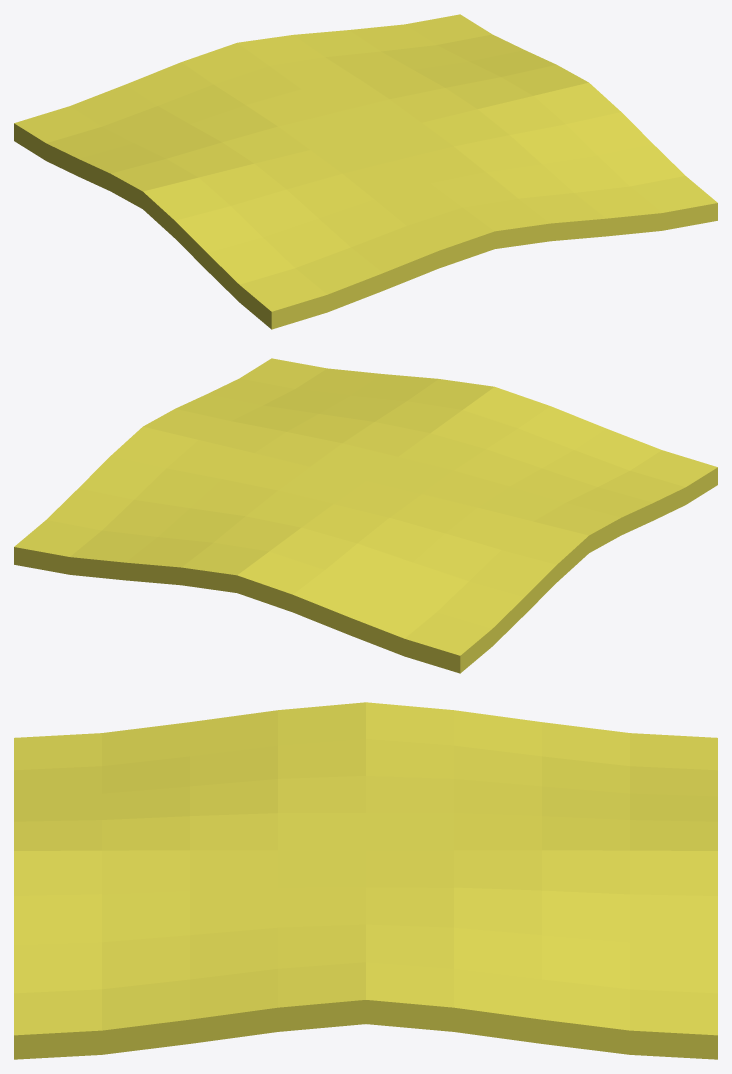
File: queso.glb
3 views of the same model, one above another, from view 1: azimuth 30°, elevation 25°; view 2: azimuth 150°, elevation 25°; view 3: azimuth 270°, elevation 25° (orthographic). The views are drawn at different scales.
Visible parts, largest first — view 1: Plane; view 2: Plane; view 3: Plane.
Part boxes in pixels (x1=…): Plane: x1=14, y1=14, x2=717, y2=329; Plane: x1=14, y1=358, x2=717, y2=673; Plane: x1=14, y1=702, x2=717, y2=1059.
Size of the model in its own units: 1.55 by 0.1471 by 1.55.
